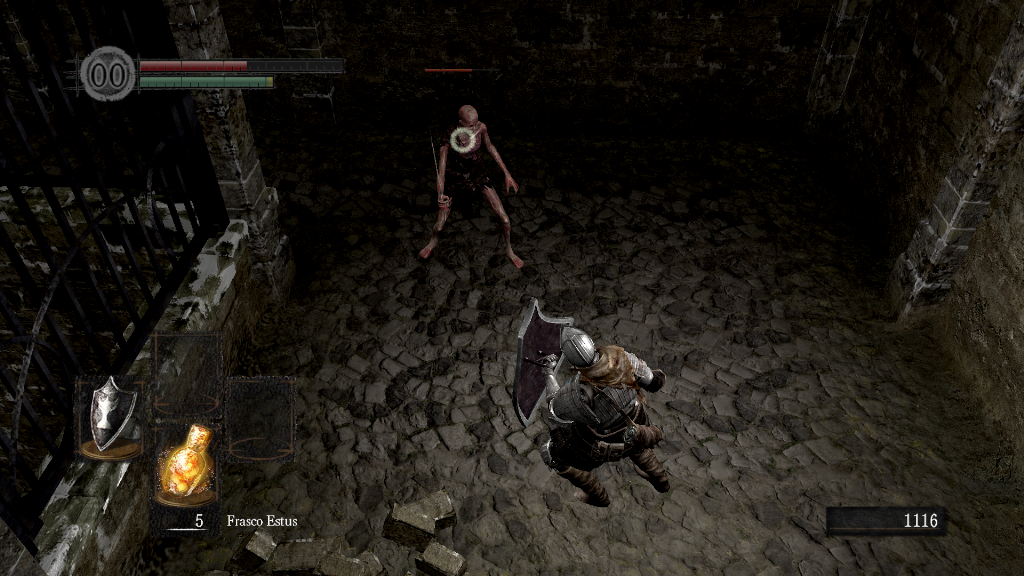health: (138, 58, 343, 71)
hollow: (415, 105, 528, 269)
humanity: (80, 45, 136, 102)
player: (508, 296, 671, 509)
souls: (825, 506, 945, 536)
stamina: (138, 74, 274, 88)
